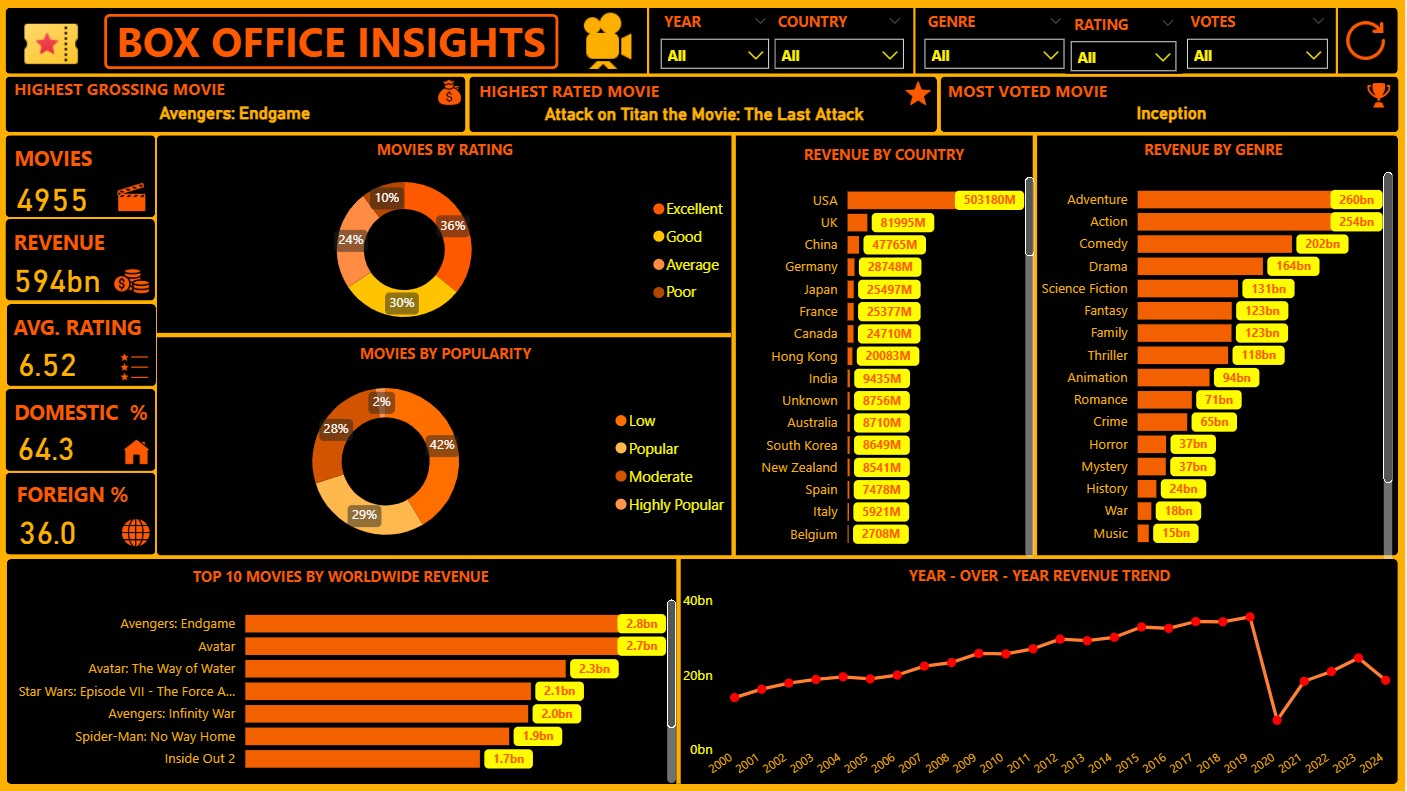

What the dashboard file says about the page in this screenshot:
{"tool":"powerbi","page":{"name":"Dashboard","canvas":[1280,720],"ordinal":0},"visuals":[{"type":"shape","box":[107.2,13.9,403,49.5],"z":0,"group":"g12"},{"type":"shape","box":[145.3,123,1128.5,382.1],"z":0,"group":"g1"},{"type":"shape","box":[7.3,353.4,136.3,74.6],"z":0,"group":"g7"},{"type":"shape","box":[7,430.5,136.3,74.6],"z":0,"group":"g8"},{"type":"group","id":"g1","title":"Group 7","box":[5,6.2,1271.3,706.1],"z":1000,"group":"g12"},{"type":"shape","box":[7.6,69.6,418.2,50.7],"z":1000,"group":"g1"},{"type":"shape","title":"vdv","box":[7.3,122.8,136.2,74.6],"z":1000,"group":"g4"},{"type":"card","fields":{"Values":["box_office_cleaned.Avg_Foreign_%"]},"box":[10,389,69.7,34.7],"z":1000,"group":"g7"},{"type":"card","fields":{"Values":["box_office_cleaned.Avg_Domestic_%"]},"box":[9.3,465.9,72.8,34.7],"z":1000,"group":"g8"},{"type":"image","box":[524.3,6.2,61,62.1],"z":2000,"group":"g12"},{"type":"shape","box":[428.7,69.6,425.2,50.7],"z":2000,"group":"g1"},{"type":"textbox","box":[10.4,360.9,130.2,24.9],"z":2000,"group":"g7"},{"type":"textbox","box":[7.7,437.5,119.5,27.3],"z":2000,"group":"g8"},{"type":"shape","box":[856.9,69.6,416.5,50.7],"z":3000,"group":"g1"},{"type":"image","box":[109.6,394.4,34.4,33.8],"z":3000,"group":"g7"},{"type":"image","box":[106.6,465.5,37,39.2],"z":3000,"group":"g8"},{"type":"shape","box":[7.7,7.5,1265.8,60.1],"z":4000,"group":"g1"},{"type":"shape","box":[6.9,199.5,135.8,74.2],"z":4000,"group":"g6"},{"type":"card","fields":{"Values":["Min(box_office_cleaned.Movie)"]},"box":[6.7,90.5,419.7,27.4],"z":5000,"group":"g1"},{"type":"card","fields":{"Values":["box_office_cleaned.Total_Movies"]},"box":[14.1,165,71.5,27.6],"z":5000,"group":"g5"},{"type":"shape","box":[7.5,276.1,135.7,74.8],"z":5000,"group":"g3"},{"type":"card","fields":{"Values":["Min(box_office_cleaned.Movie)"]},"box":[435.1,90.3,416.1,28.9],"z":6000,"group":"g1"},{"type":"card","fields":{"Values":["box_office_cleaned.Avg_Movie_Rating"]},"box":[10.3,312.2,69.7,35.4],"z":6000,"group":"g3"},{"type":"card","fields":{"Values":["Min(box_office_cleaned.Movie)"]},"box":[860.5,90.1,413.9,28.2],"z":7000,"group":"g1"},{"type":"card","fields":{"Values":["box_office_cleaned.Total_WW_Revenue"]},"box":[5,234.7,98.7,38.3],"z":7000,"group":"g2"},{"type":"textbox","box":[97.2,7.6,412.9,56.4],"z":8000,"group":"g1"},{"type":"slicer","title":"nc","fields":{"Values":["box_office_cleaned.Vote_Category"]},"box":[1076.6,11.2,137.4,54.2],"z":8000,"group":"g11"},{"type":"image","box":[1220.2,11.1,48.5,52.7],"z":9000,"group":"g1"},{"type":"image","box":[16.4,6.2,65.3,63.5],"z":10000,"group":"g1"},{"type":"textbox","box":[14.7,71.4,203.4,21.1],"z":11000,"group":"g1"},{"type":"textbox","box":[438.3,72.5,172.3,21.1],"z":13000,"group":"g1"},{"type":"textbox","box":[864.2,72.1,156.6,23.7],"z":14000,"group":"g1"},{"type":"image","box":[391,67.7,38.4,34.9],"z":15000,"group":"g1"},{"type":"textbox","box":[9.6,130.3,82.4,25.9],"z":15000,"group":"g5"},{"type":"image","box":[819.4,69.2,34.8,33.3],"z":16000,"group":"g1"},{"type":"textbox","box":[5,208,102.3,24.9],"z":16000,"group":"g2"},{"type":"image","box":[1234,68.7,42.2,35.9],"z":17000,"group":"g1"},{"type":"textbox","box":[5.7,284.4,133.2,25.7],"z":17000,"group":"g3"},{"type":"group","id":"g2","title":"Group 3","box":[5,208,143.7,71.4],"z":18000,"group":"g6"},{"type":"group","id":"g3","title":"Group 1","box":[5.7,276.1,137.6,75.7],"z":18000,"group":"g1"},{"type":"group","id":"g4","title":"Group 4","box":[7.3,122.8,136.2,74.6],"z":19000,"group":"g1"},{"type":"group","id":"g5","title":"Group 2","box":[9.6,130.3,82.4,62.3],"z":19000,"group":"g4"},{"type":"group","id":"g6","title":"Group 5","box":[5,199.5,143.7,79.9],"z":20000,"group":"g1"},{"type":"group","id":"g7","title":"Group 6","box":[7.3,353.4,136.7,74.8],"z":21000,"group":"g1"},{"type":"shape","box":[8.3,507.7,1264.6,204.6],"z":21000,"group":"g9"},{"type":"group","id":"g8","title":"Group 8","box":[7,430.5,136.6,74.6],"z":22000,"group":"g1"},{"type":"clusteredBarChart","title":"TOP 10 MOVIES BY WORLDWIDE REVENUE","fields":{"Category":["box_office_cleaned.Movie"],"Y":["box_office_cleaned.Total_WW_Revenue"]},"box":[7.6,515.3,609.5,197.1],"z":22000,"group":"g9"},{"type":"shape","box":[648.9,121,39.8,384.9],"z":23000,"group":"g1"},{"type":"lineChart","title":"YEAR - OVER - YEAR REVENUE TREND","fields":{"Y":["box_office_cleaned.Total_WW_Revenue"],"Category":["box_office_cleaned.Year"]},"box":[623.9,514.2,648.6,196.9],"z":23000,"group":"g9"},{"type":"clusteredBarChart","title":"REVENUE BY GENRE","fields":{"Category":["box_office_cleaned.Genres"],"Y":["box_office_cleaned.Total_WW_Revenue"]},"box":[942,126.6,325.7,383.5],"z":24000,"group":"g1"},{"type":"shape","box":[599.3,506.9,39.6,205.5],"z":24000,"group":"g9"},{"type":"shape","box":[923.4,121.3,39.8,384.6],"z":25000,"group":"g1"},{"type":"image","box":[94.6,234.6,54.1,44.8],"z":25000,"group":"g2"},{"type":"image","box":[104.4,316.2,38,35.6],"z":26000,"group":"g3"},{"type":"group","id":"g9","title":"Group 9","box":[7.6,506.9,1265.3,205.5],"z":26000,"group":"g1"},{"type":"shape","box":[145,297,522,15.6],"z":27000,"group":"g1"},{"type":"clusteredBarChart","title":"REVENUE BY COUNTRY","fields":{"Y":["box_office_cleaned.Total_WW_Revenue"],"Category":["box_office_cleaned.Production_Countries"]},"box":[669.7,131.1,272.6,376],"z":28000,"group":"g1"},{"type":"slicer","title":"nc","fields":{"Values":["box_office_cleaned.Rating_Category"]},"box":[971.3,12.9,106,54.2],"z":29000,"group":"g11"},{"type":"donutChart","title":"MOVIES BY RATING","fields":{"Category":["box_office_cleaned.Rating_Category"],"Y":["Avg(box_office_cleaned.Rating)"]},"box":[144.4,126.2,524,178.8],"z":29000,"group":"g1"},{"type":"slicer","title":"nc","fields":{"Values":["box_office_cleaned.Genres"]},"box":[838.3,11.2,137.2,55.5],"z":30000,"group":"g11"},{"type":"donutChart","title":"MOVIES BY POPULARITY","fields":{"Category":["box_office_cleaned.Vote_Category"],"Y":["Sum(box_office_cleaned.Vote_Count)"]},"box":[144.4,312.4,525.3,193.5],"z":30000,"group":"g1"},{"type":"group","id":"g10","title":"Group 10","box":[598.2,11.2,231.5,55.1],"z":31000,"group":"g1"},{"type":"slicer","title":"nc","fields":{"Values":["box_office_cleaned.Production_Countries"]},"box":[701.9,11.2,127.1,55.9],"z":31000,"group":"g10"},{"type":"slicer","title":"nc","fields":{"Values":["box_office_cleaned.Year"]},"box":[598.2,11.2,108.4,53],"z":32000,"group":"g10"},{"type":"group","id":"g11","title":"Group 11","box":[838.3,11.2,375.7,55.9],"z":32000,"group":"g1"},{"type":"shape","box":[96.9,13,412.8,50],"z":33000,"group":"g1"},{"type":"group","id":"g12","title":"Group 12","box":[5,6.2,1271.3,706.1],"z":33003},{"type":"shape","box":[1209.8,7.4,16.2,61.2],"z":34000,"group":"g1"},{"type":"shape","box":[825.2,6.2,16.2,62.5],"z":35000,"group":"g1"},{"type":"shape","box":[583.8,6.2,16.1,62.6],"z":36000,"group":"g1"},{"type":"image","box":[102,161.5,40.6,35.4],"z":37000,"group":"g1"}]}

Visuals, with their boxes in screenshot pixels (x1, y1, x2, y2), scaled from the page's 1280x720 canvas onto the 1407x791 screenshot:
shape: Rect(118, 15, 561, 70)
shape: Rect(160, 135, 1400, 555)
shape: Rect(8, 388, 158, 470)
shape: Rect(8, 473, 158, 555)
"Group 7" group: Rect(5, 7, 1403, 783)
shape: Rect(8, 76, 468, 132)
"vdv" shape: Rect(8, 135, 158, 217)
card - box_office_cleaned.Avg_Foreign_%: Rect(11, 427, 88, 465)
card - box_office_cleaned.Avg_Domestic_%: Rect(10, 512, 90, 550)
image: Rect(576, 7, 643, 75)
shape: Rect(471, 76, 939, 132)
textbox: Rect(11, 396, 155, 424)
textbox: Rect(8, 481, 140, 511)
shape: Rect(942, 76, 1400, 132)
image: Rect(120, 433, 158, 470)
image: Rect(117, 511, 158, 554)
shape: Rect(8, 8, 1400, 74)
shape: Rect(8, 219, 157, 301)
card - Min(box_office_cleaned.Movie): Rect(7, 99, 469, 130)
card - box_office_cleaned.Total_Movies: Rect(15, 181, 94, 212)
shape: Rect(8, 303, 157, 386)
card - Min(box_office_cleaned.Movie): Rect(478, 99, 936, 131)
card - box_office_cleaned.Avg_Movie_Rating: Rect(11, 343, 88, 382)
card - Min(box_office_cleaned.Movie): Rect(946, 99, 1401, 130)
card - box_office_cleaned.Total_WW_Revenue: Rect(5, 258, 114, 300)
textbox: Rect(107, 8, 561, 70)
"nc" slicer: Rect(1183, 12, 1334, 72)
image: Rect(1341, 12, 1395, 70)
image: Rect(18, 7, 90, 77)
textbox: Rect(16, 78, 240, 102)
textbox: Rect(482, 80, 671, 103)
textbox: Rect(950, 79, 1122, 105)
image: Rect(430, 74, 472, 113)
textbox: Rect(11, 143, 101, 172)
image: Rect(901, 76, 939, 113)
textbox: Rect(5, 229, 118, 256)
image: Rect(1356, 75, 1403, 115)
textbox: Rect(6, 312, 153, 341)
"Group 3" group: Rect(5, 229, 163, 307)
"Group 1" group: Rect(6, 303, 158, 386)
"Group 4" group: Rect(8, 135, 158, 217)
"Group 2" group: Rect(11, 143, 101, 212)
"Group 5" group: Rect(5, 219, 163, 307)
"Group 6" group: Rect(8, 388, 158, 470)
shape: Rect(9, 558, 1399, 783)
"Group 8" group: Rect(8, 473, 158, 555)
"TOP 10 MOVIES BY WORLDWIDE REVENUE" clusteredBarChart: Rect(8, 566, 678, 783)
shape: Rect(713, 133, 757, 556)
"YEAR - OVER - YEAR REVENUE TREND" lineChart: Rect(686, 565, 1399, 781)
"REVENUE BY GENRE" clusteredBarChart: Rect(1035, 139, 1393, 560)
shape: Rect(659, 557, 702, 783)
shape: Rect(1015, 133, 1059, 556)
image: Rect(104, 258, 163, 307)
image: Rect(115, 347, 157, 386)
"Group 9" group: Rect(8, 557, 1399, 783)
shape: Rect(159, 326, 733, 343)
"REVENUE BY COUNTRY" clusteredBarChart: Rect(736, 144, 1036, 557)
"nc" slicer: Rect(1068, 14, 1184, 74)
"MOVIES BY RATING" donutChart: Rect(159, 139, 735, 335)
"nc" slicer: Rect(921, 12, 1072, 73)
"MOVIES BY POPULARITY" donutChart: Rect(159, 343, 736, 556)
"Group 10" group: Rect(658, 12, 912, 73)
"nc" slicer: Rect(772, 12, 911, 74)
"nc" slicer: Rect(658, 12, 777, 71)
"Group 11" group: Rect(921, 12, 1334, 74)
shape: Rect(107, 14, 560, 69)
"Group 12" group: Rect(5, 7, 1403, 783)
shape: Rect(1330, 8, 1348, 75)
shape: Rect(907, 7, 925, 75)
shape: Rect(642, 7, 659, 76)
image: Rect(112, 177, 157, 216)
